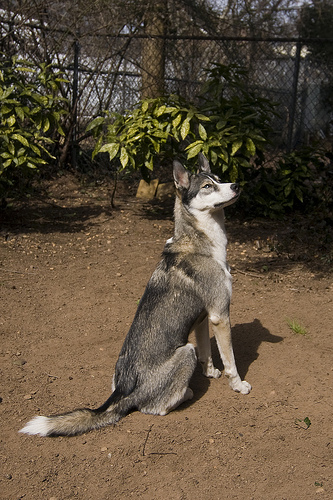dog: (16, 156, 254, 440)
